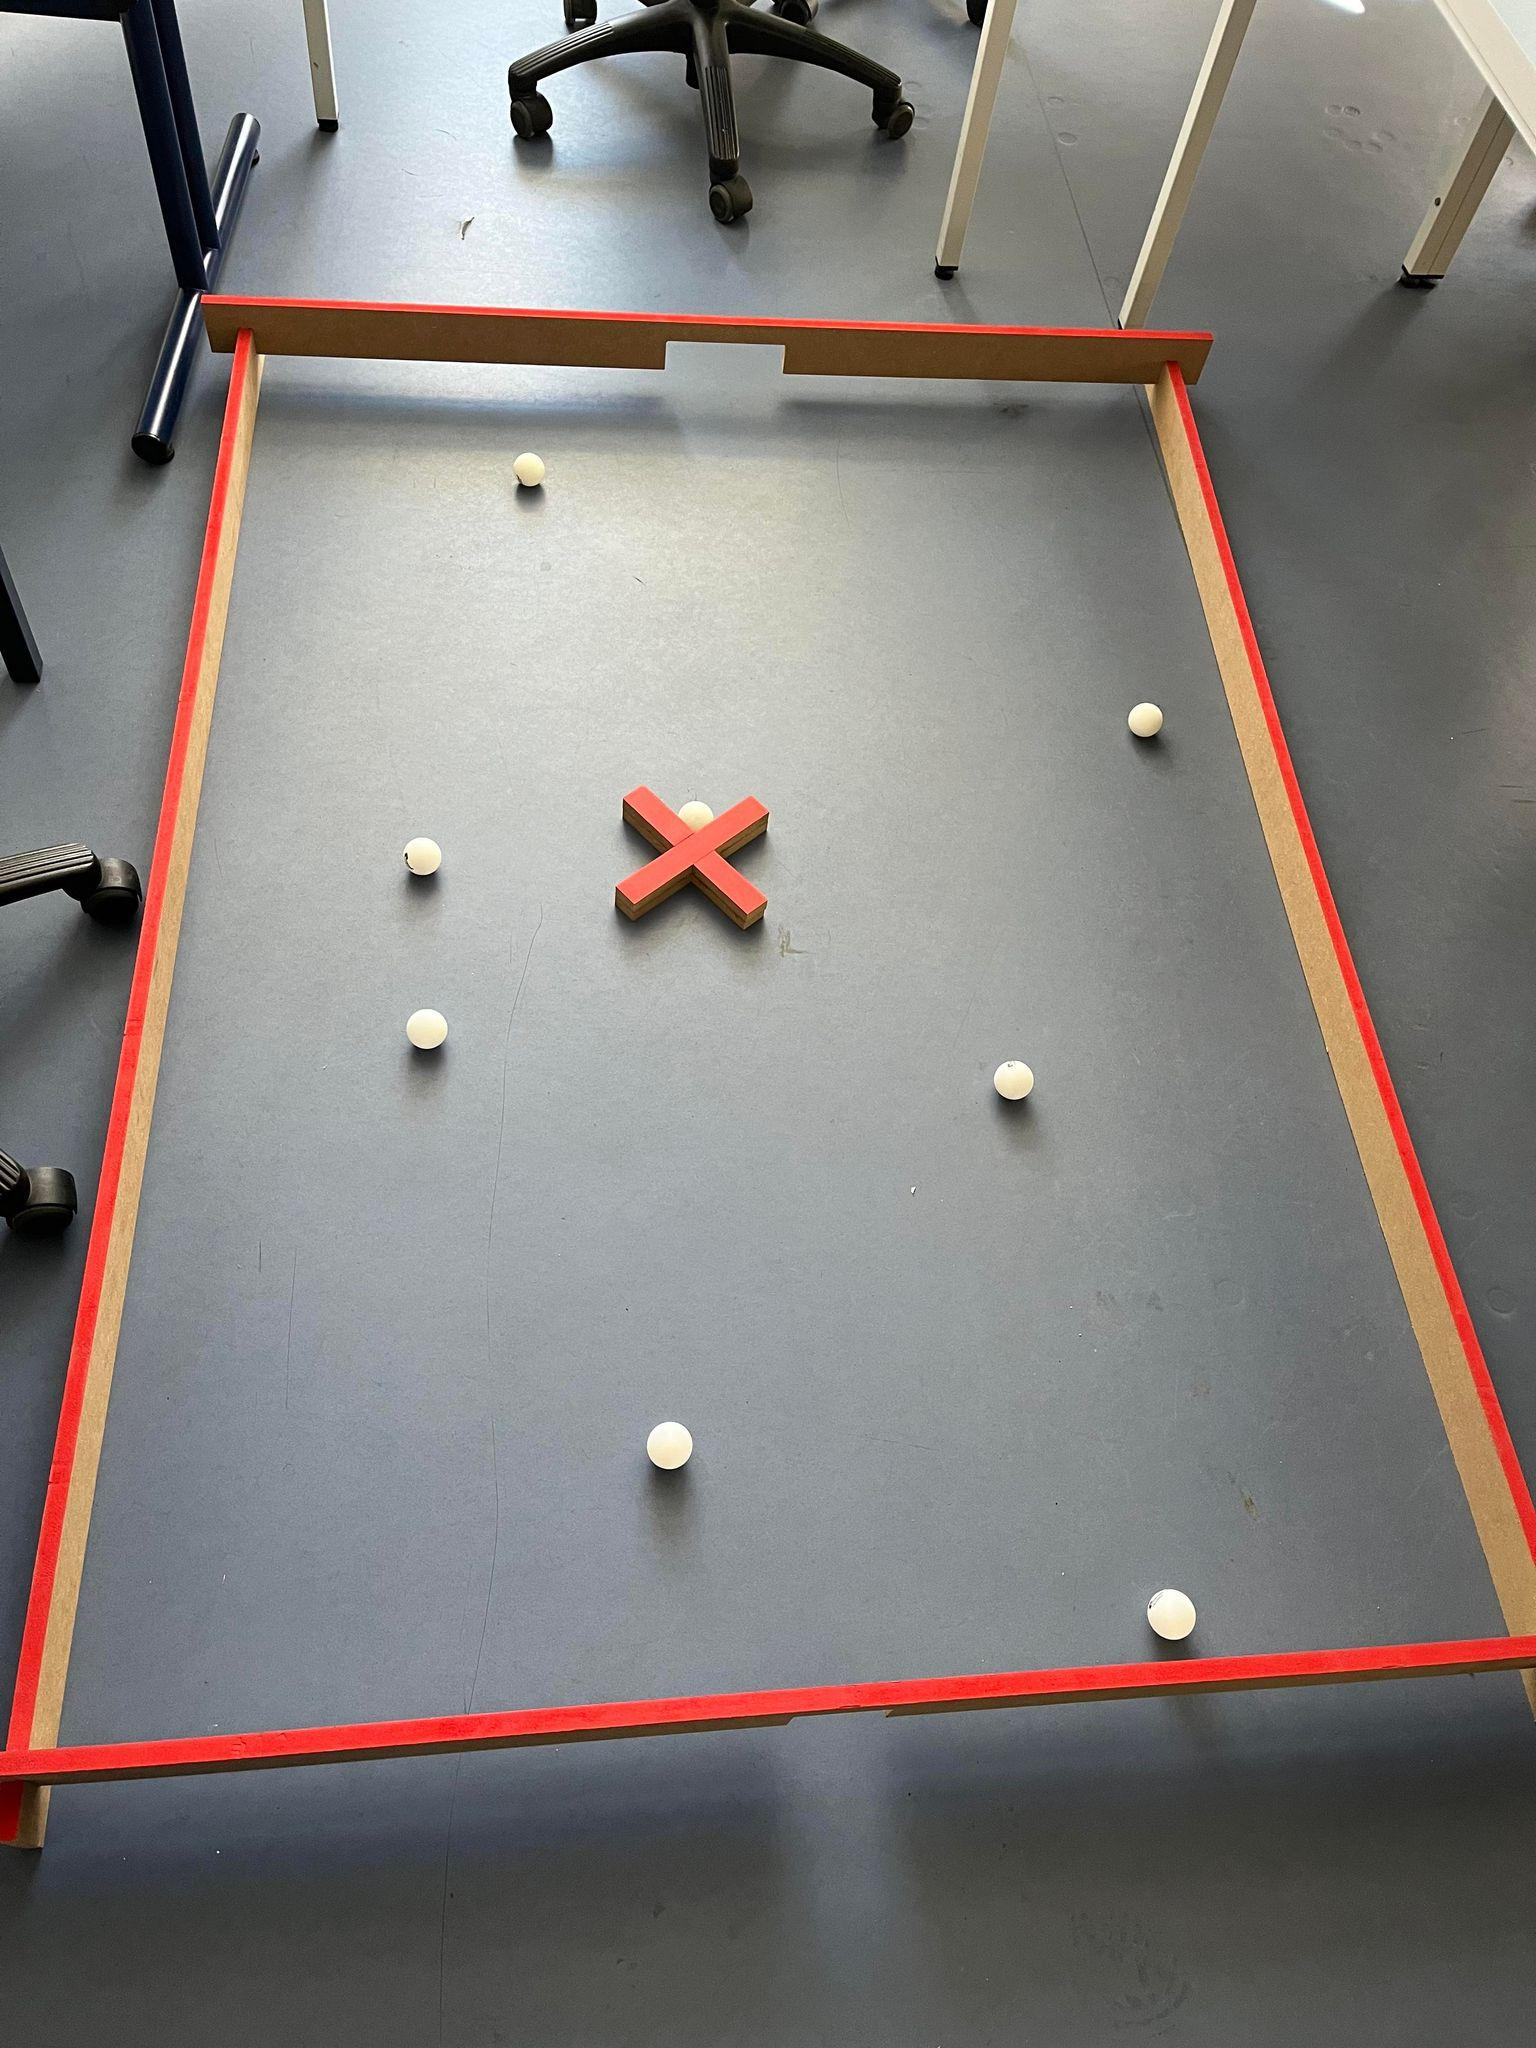white: (1144, 1587, 1204, 1643), (399, 832, 450, 889), (402, 1005, 453, 1056), (644, 1419, 694, 1472), (992, 1055, 1037, 1109), (1126, 697, 1168, 742), (513, 452, 547, 490), (679, 797, 718, 827)
